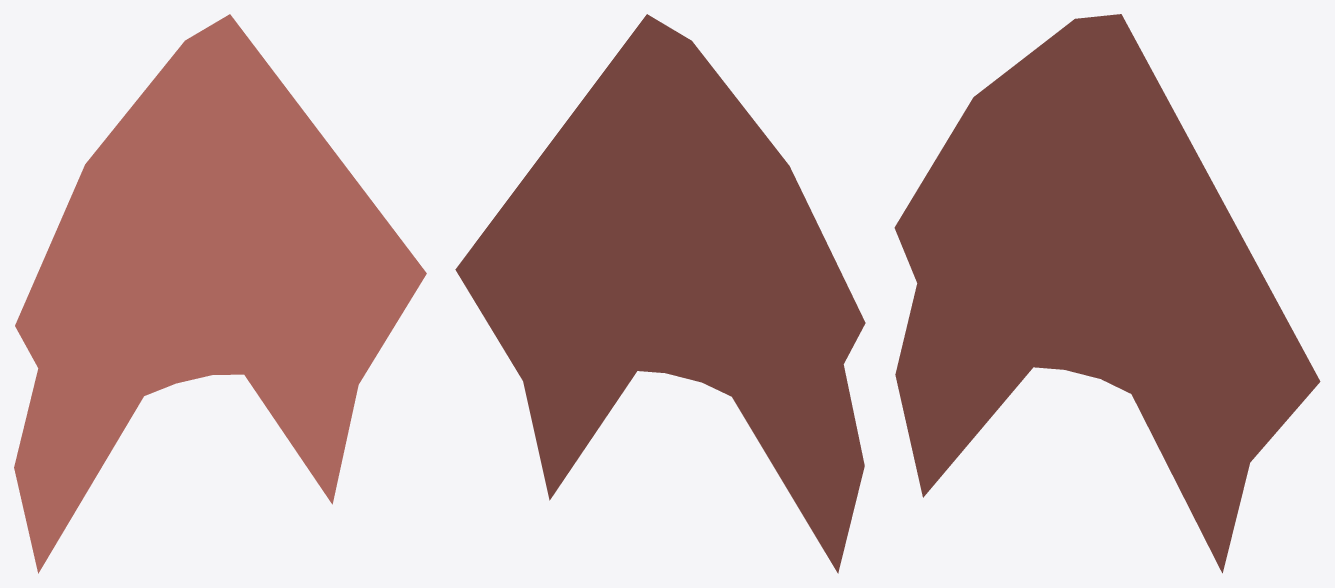
3 renders of one model, left to right at view 1: azimuth 30°, elevation 25°; view 2: azimuth 150°, elevation 25°; view 3: azimuth 330°, elevation 25°, orthographic. The views are drawn at different scales.
Visible parts, largest first — view 1: Origami_Model_14; view 2: Origami_Model_14; view 3: Origami_Model_14.
Boxes of the visible parts, x1,y1,x2,y2 form: Origami_Model_14: (14, 14, 426, 573); Origami_Model_14: (455, 14, 865, 573); Origami_Model_14: (894, 14, 1320, 573).
Bounding box in the file's own units: 0.4233 × 0.5049 × 0.0065.
